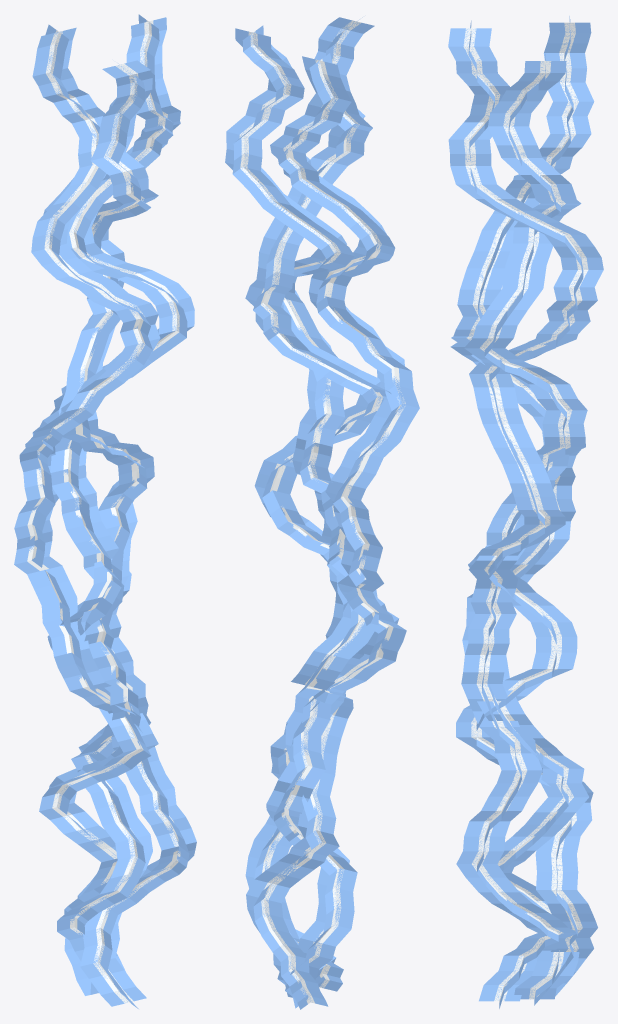
File: spektr_bolt_3.glb
The picture shows the model from 3 angles, left to right: view 1: azimuth 30°, elevation 25°; view 2: azimuth 150°, elevation 25°; view 3: azimuth 270°, elevation 25°; orthographic projection.
Size of the model in its own units: 0.667 by 3.6 by 0.5285.
